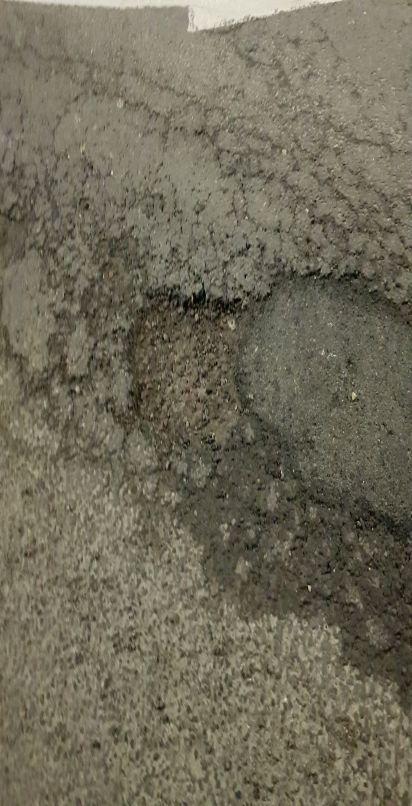pothole: (124, 284, 252, 467)
